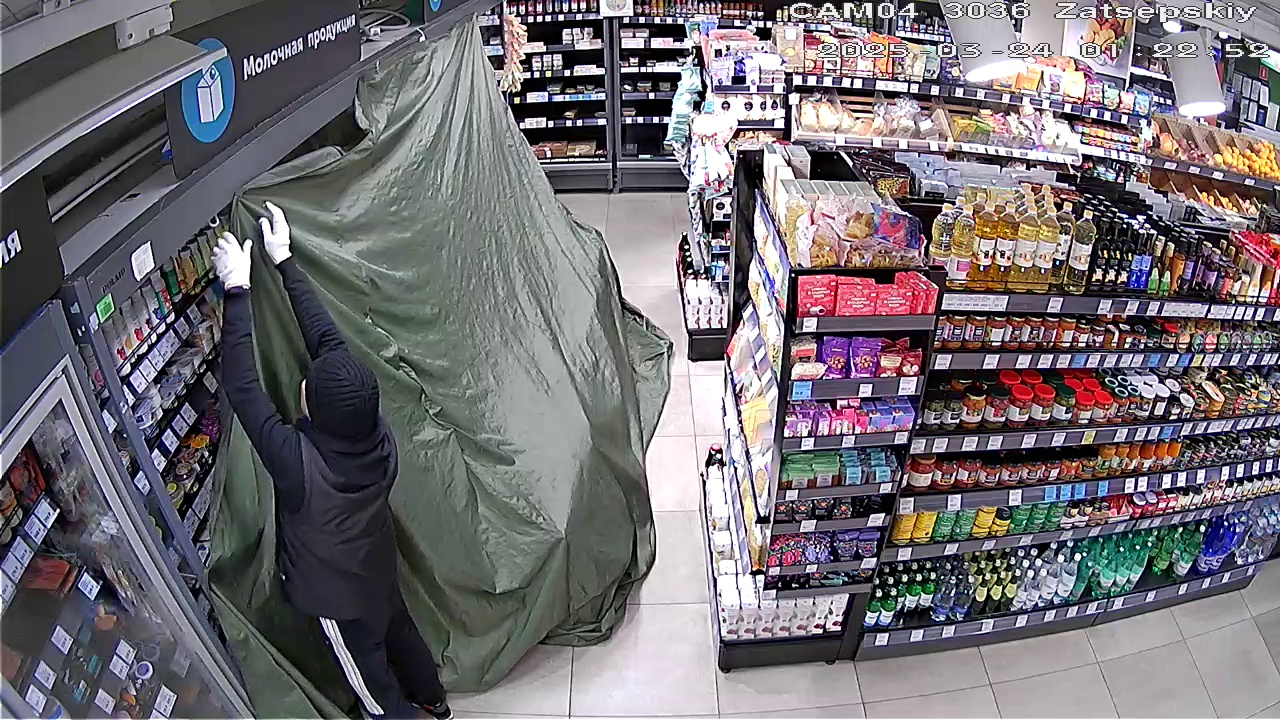Human: (211, 208, 451, 719)
dome: (188, 36, 669, 700)
